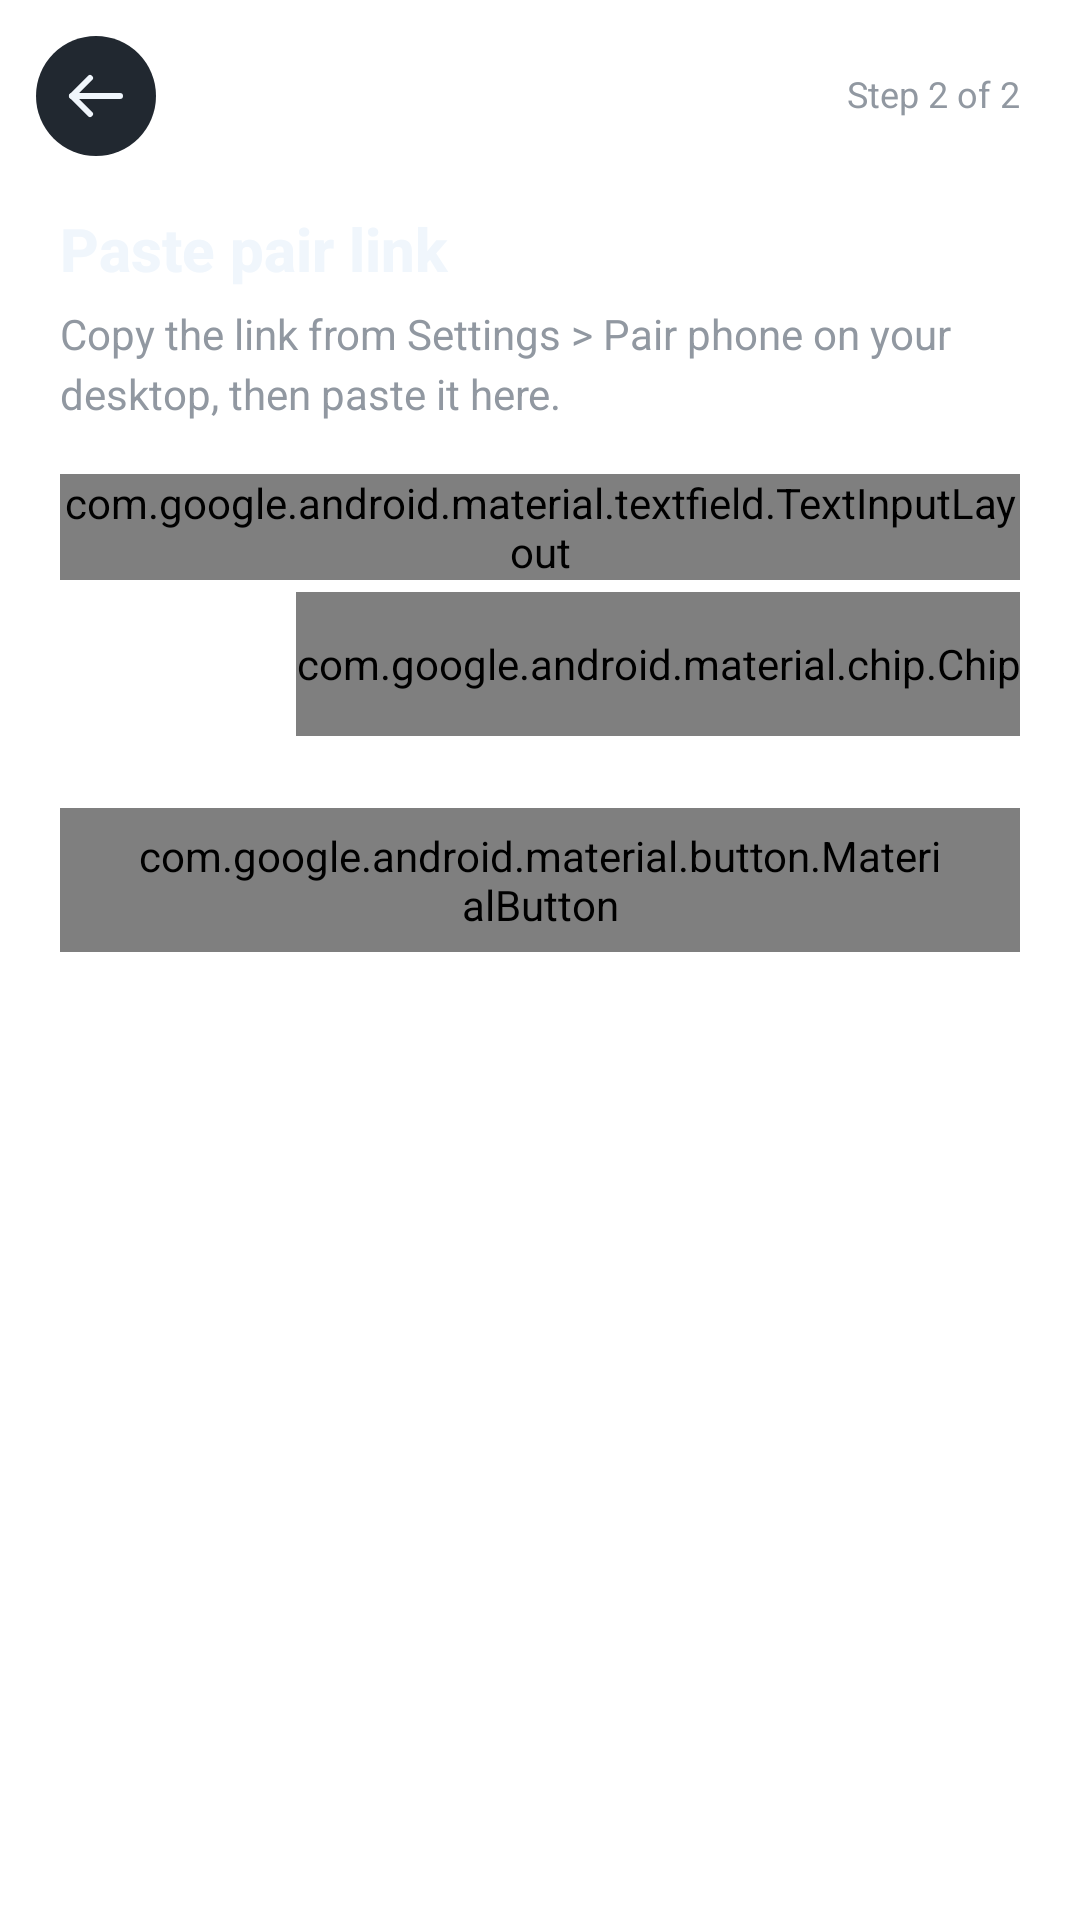

Point at icon controls on the screen. Image size 1080 × 1920, points as [x,y].
Back: [96,96]
